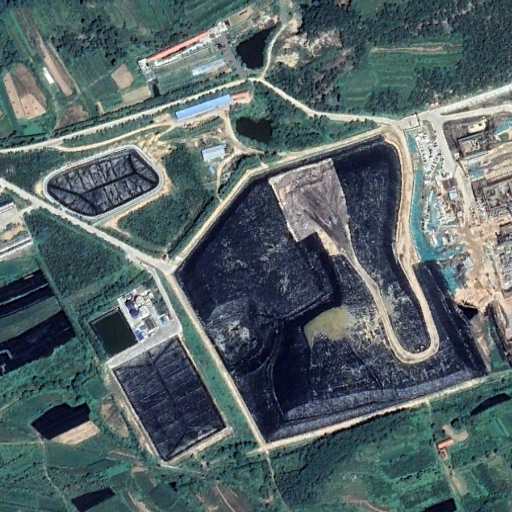lf: (168, 122, 492, 453)
